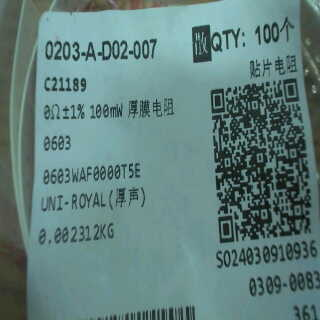0R: (41, 94, 125, 156)
